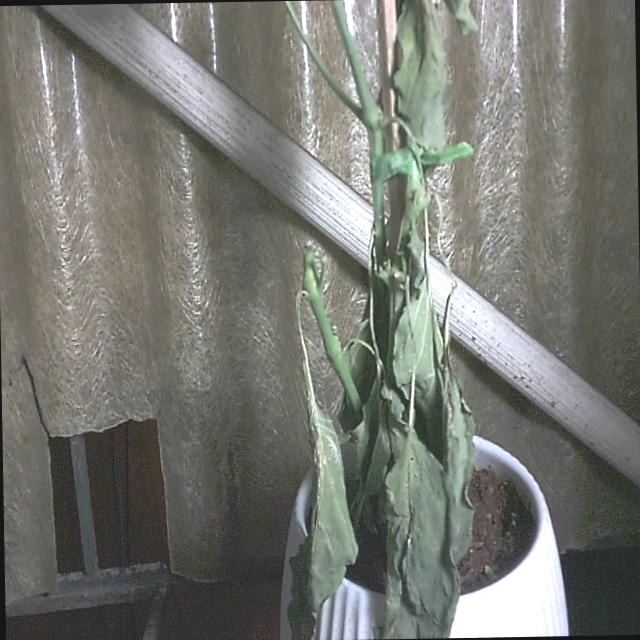Leaf: (281, 395, 358, 640), (376, 436, 459, 639)
